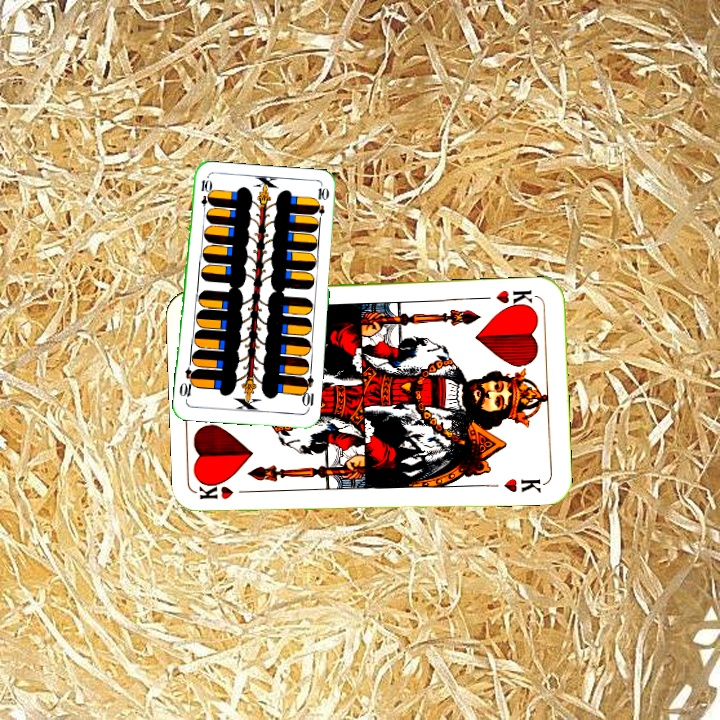E10: (297, 372, 316, 413), (197, 175, 212, 216)
HK: (197, 481, 256, 503), (492, 286, 539, 312)
